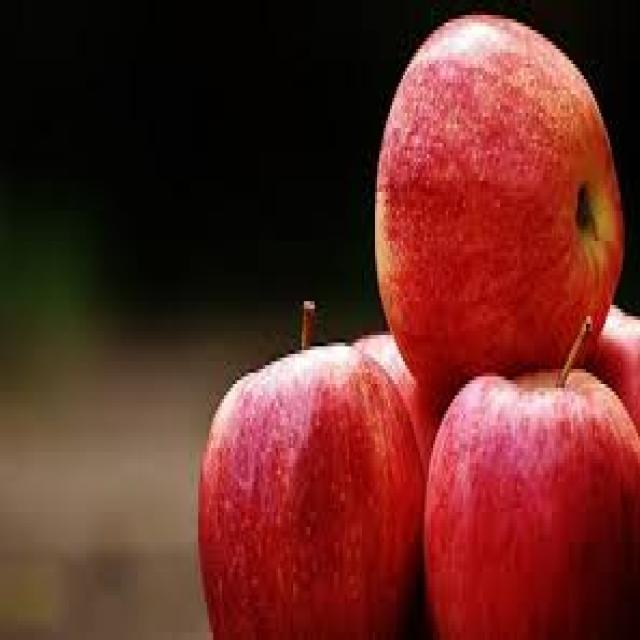apple: (190, 314, 428, 640)
